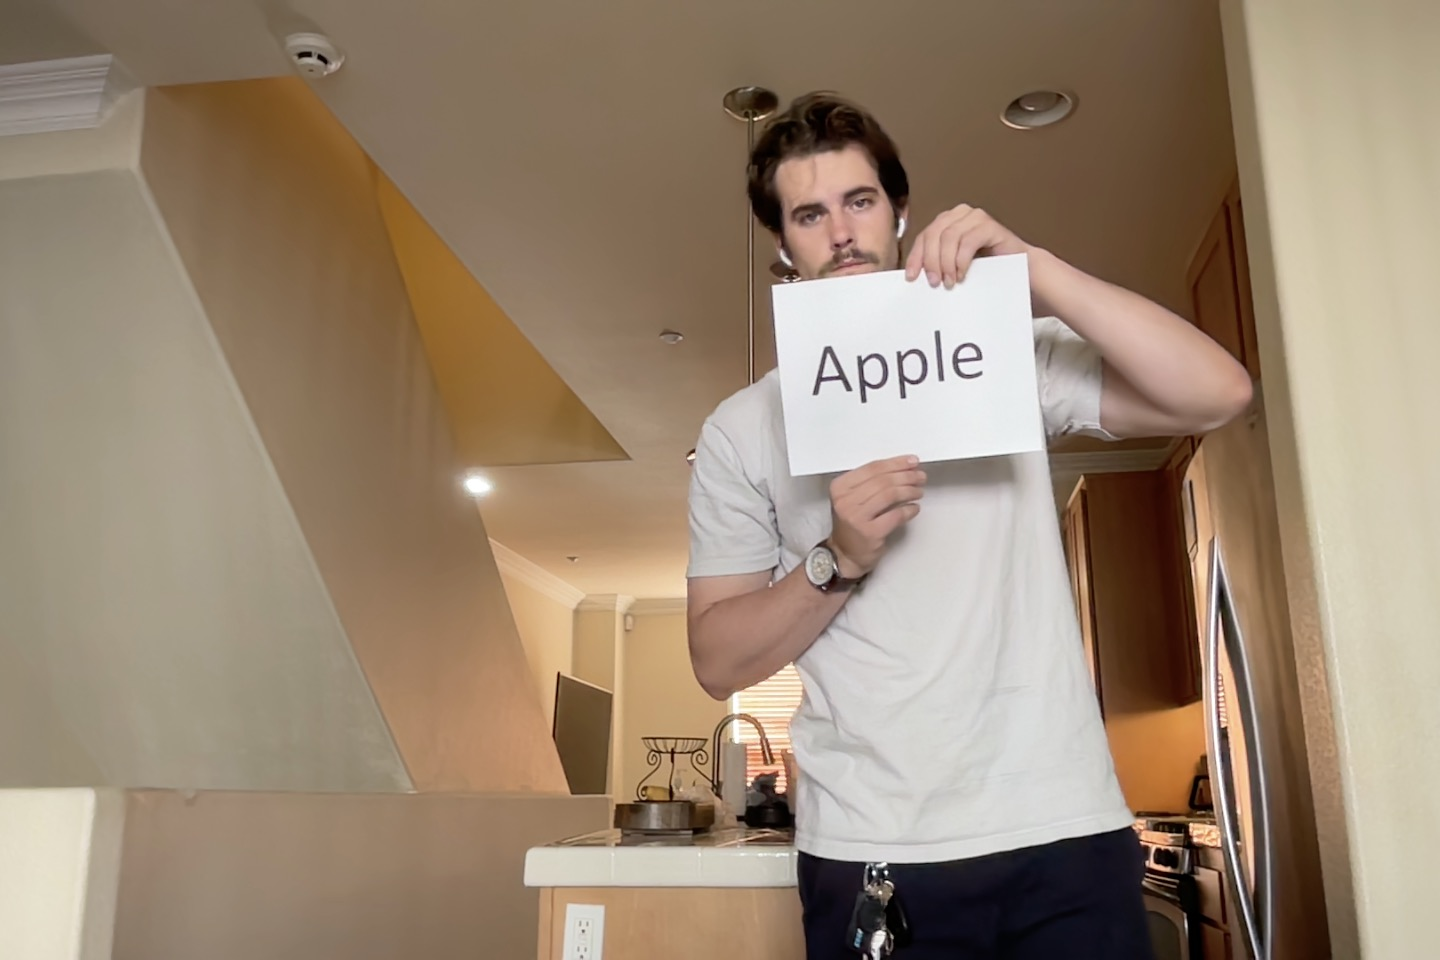word: (810, 327, 987, 405)
